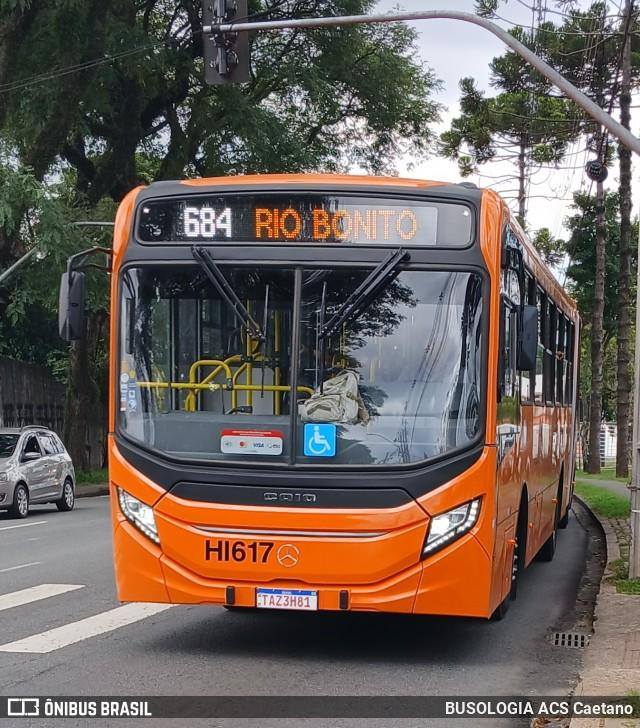RIO BONITO: (243, 204, 421, 246)
